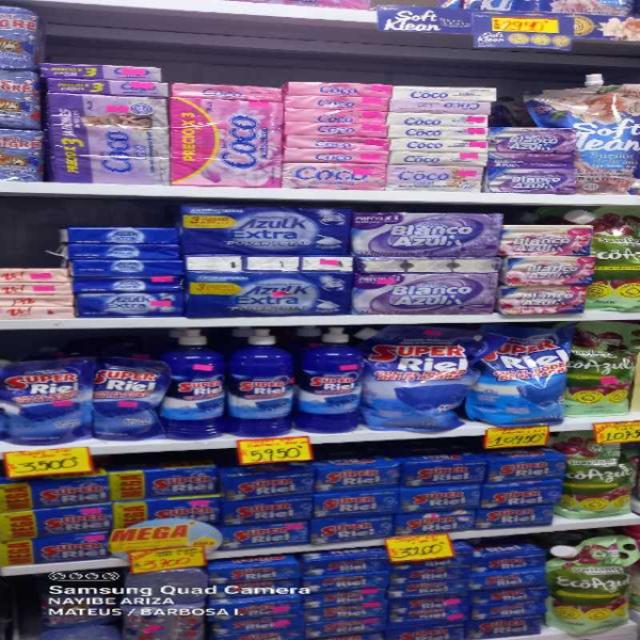Super_Riel: (296, 321, 363, 434), (229, 331, 300, 436), (167, 332, 227, 438)
